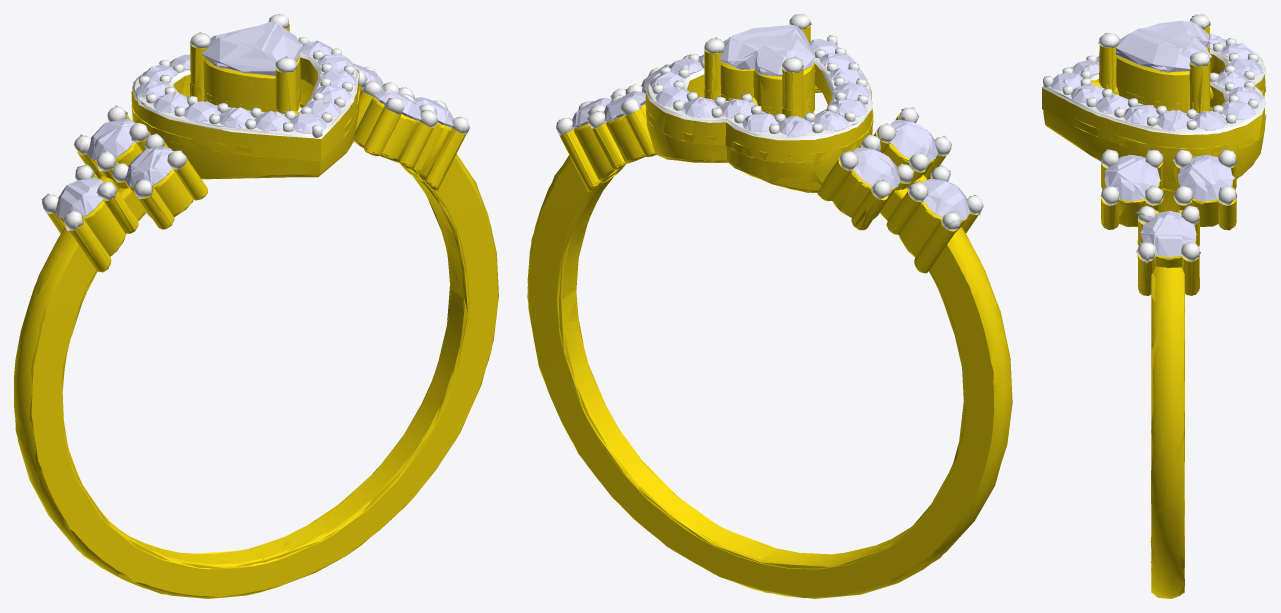
Rendered from DLR-D000615528.glb.
3 renders of one model, left to right at view 1: azimuth 30°, elevation 25°; view 2: azimuth 150°, elevation 25°; view 3: azimuth 270°, elevation 25°, orthographic. The views are drawn at different scales.
Visible parts, largest first — view 1: highPolyMesh, lowPolyMesh; view 2: highPolyMesh, lowPolyMesh; view 3: highPolyMesh, lowPolyMesh.
Boxes of the visible parts, x1,y1,x2,y2 form: highPolyMesh: [14, 14, 498, 598]; lowPolyMesh: [14, 14, 498, 598]; highPolyMesh: [527, 14, 1012, 598]; lowPolyMesh: [527, 15, 1010, 597]; highPolyMesh: [1041, 14, 1266, 598]; lowPolyMesh: [1042, 14, 1266, 598].
Size of the model in its own units: 0.0206 by 0.0228 by 0.0086.
